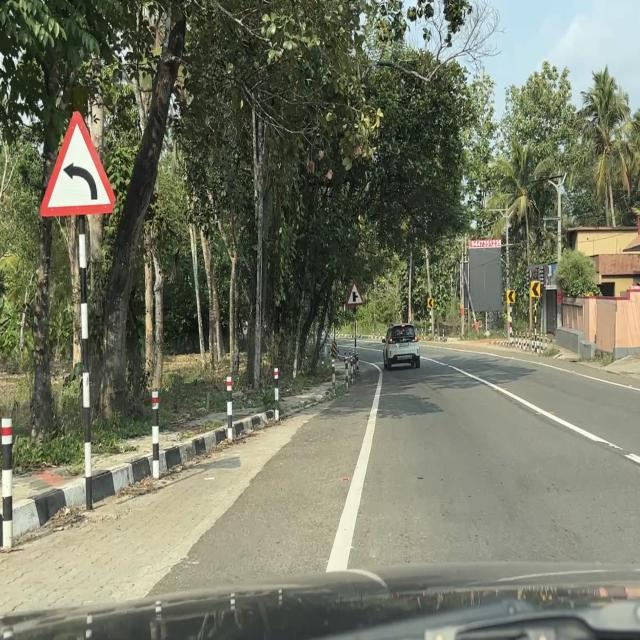LEFT_TURN_AHEAD: (40, 107, 119, 221)
SIDE_ROAD_RIGHT: (346, 280, 365, 306)
TURN_LEFT: (530, 280, 540, 298), (506, 290, 516, 304)
